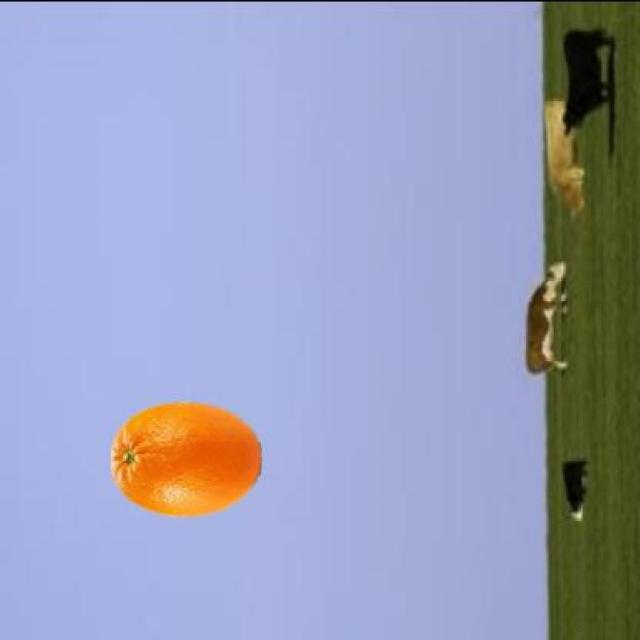Orange: (109, 398, 262, 517)
